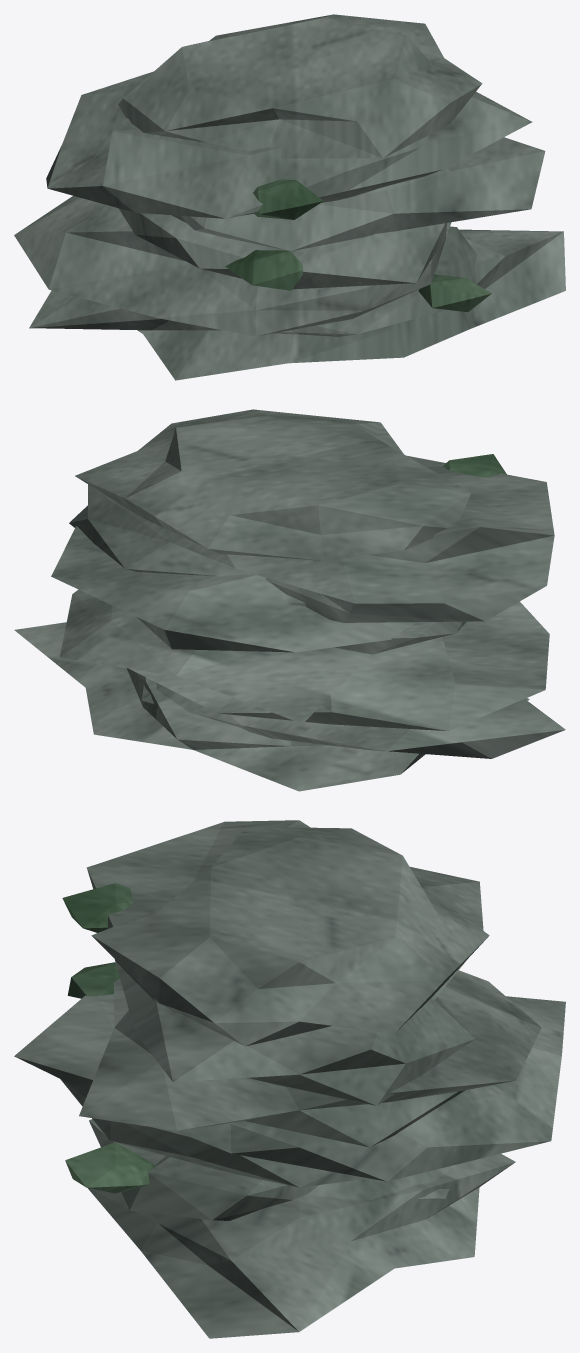
The model's file is 0028_layered_rock_03.glb.
3 views of the same model, one above another, from view 1: azimuth 30°, elevation 25°; view 2: azimuth 150°, elevation 25°; view 3: azimuth 270°, elevation 25° (orthographic). The views are drawn at different scales.
Parts seen in each view (by area): view 1: stone, moss; view 2: stone, moss; view 3: stone, moss.
Part boxes in pixels (<box>): stone: <box>14,14,565,380</box>; moss: <box>225,179,491,312</box>; stone: <box>14,409,565,791</box>; moss: <box>443,454,506,477</box>; stone: <box>14,820,565,1338</box>; moss: <box>62,883,154,1193</box>.
Bounding box in the file's own units: 2.52 × 1.21 × 1.89.
2 materials, 2 textured.
